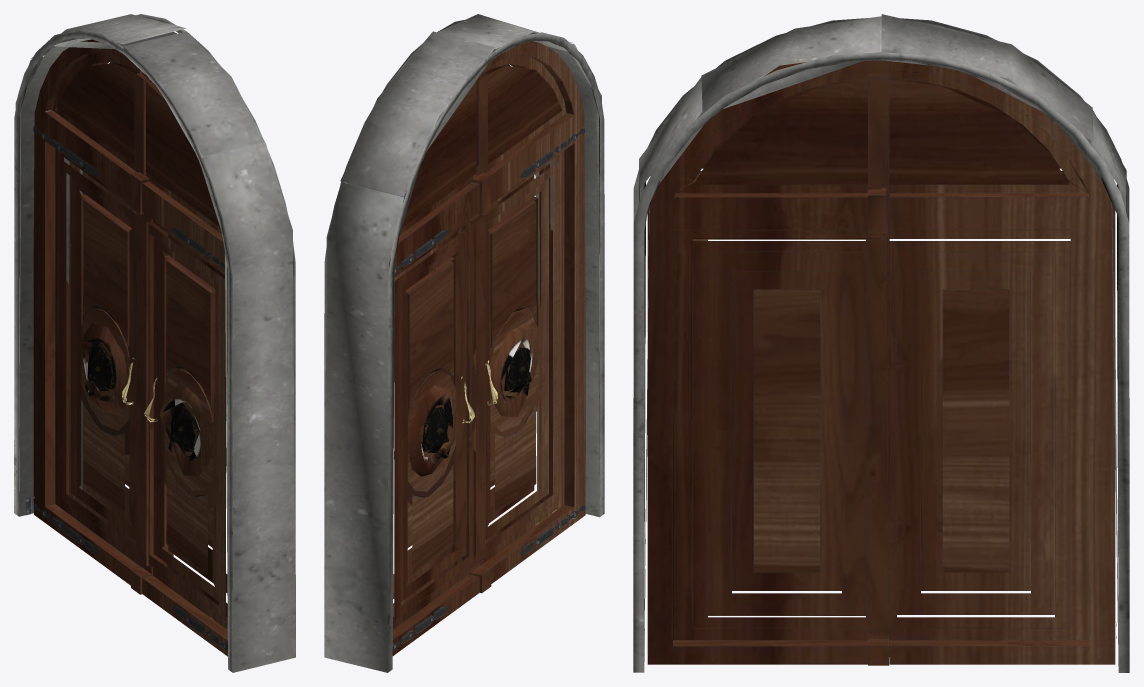
The model's file is porta.glb.
3 views of the same model, side by side, from view 1: azimuth 30°, elevation 25°; view 2: azimuth 150°, elevation 25°; view 3: azimuth 270°, elevation 25° (orthographic). The views are drawn at different scales.
Parts seen in each view (by area): view 1: Jamb_Door_0, Object_18, Object_16; view 2: Jamb_Door_0, Object_16, Object_18; view 3: Object_16, Object_18, Jamb_Door_0.
Part boxes in pixels (x1,y1,x2,y2): Jamb_Door_0: [14, 14, 295, 672]; Object_18: [26, 39, 150, 585]; Object_16: [131, 61, 227, 656]; Jamb_Door_0: [324, 14, 604, 672]; Object_16: [450, 41, 585, 593]; Object_18: [392, 81, 479, 655]; Object_16: [647, 60, 889, 665]; Object_18: [880, 61, 1116, 664]; Jamb_Door_0: [633, 14, 1129, 672].
Size of the model in its own units: 0.287 by 2.36 by 1.7.
Materials: 1 (1 with a texture image).
